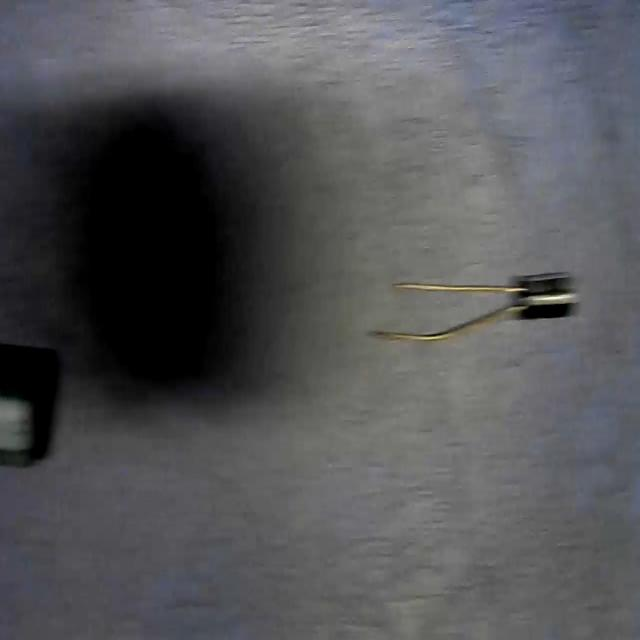capacitor: (367, 276, 578, 346)
